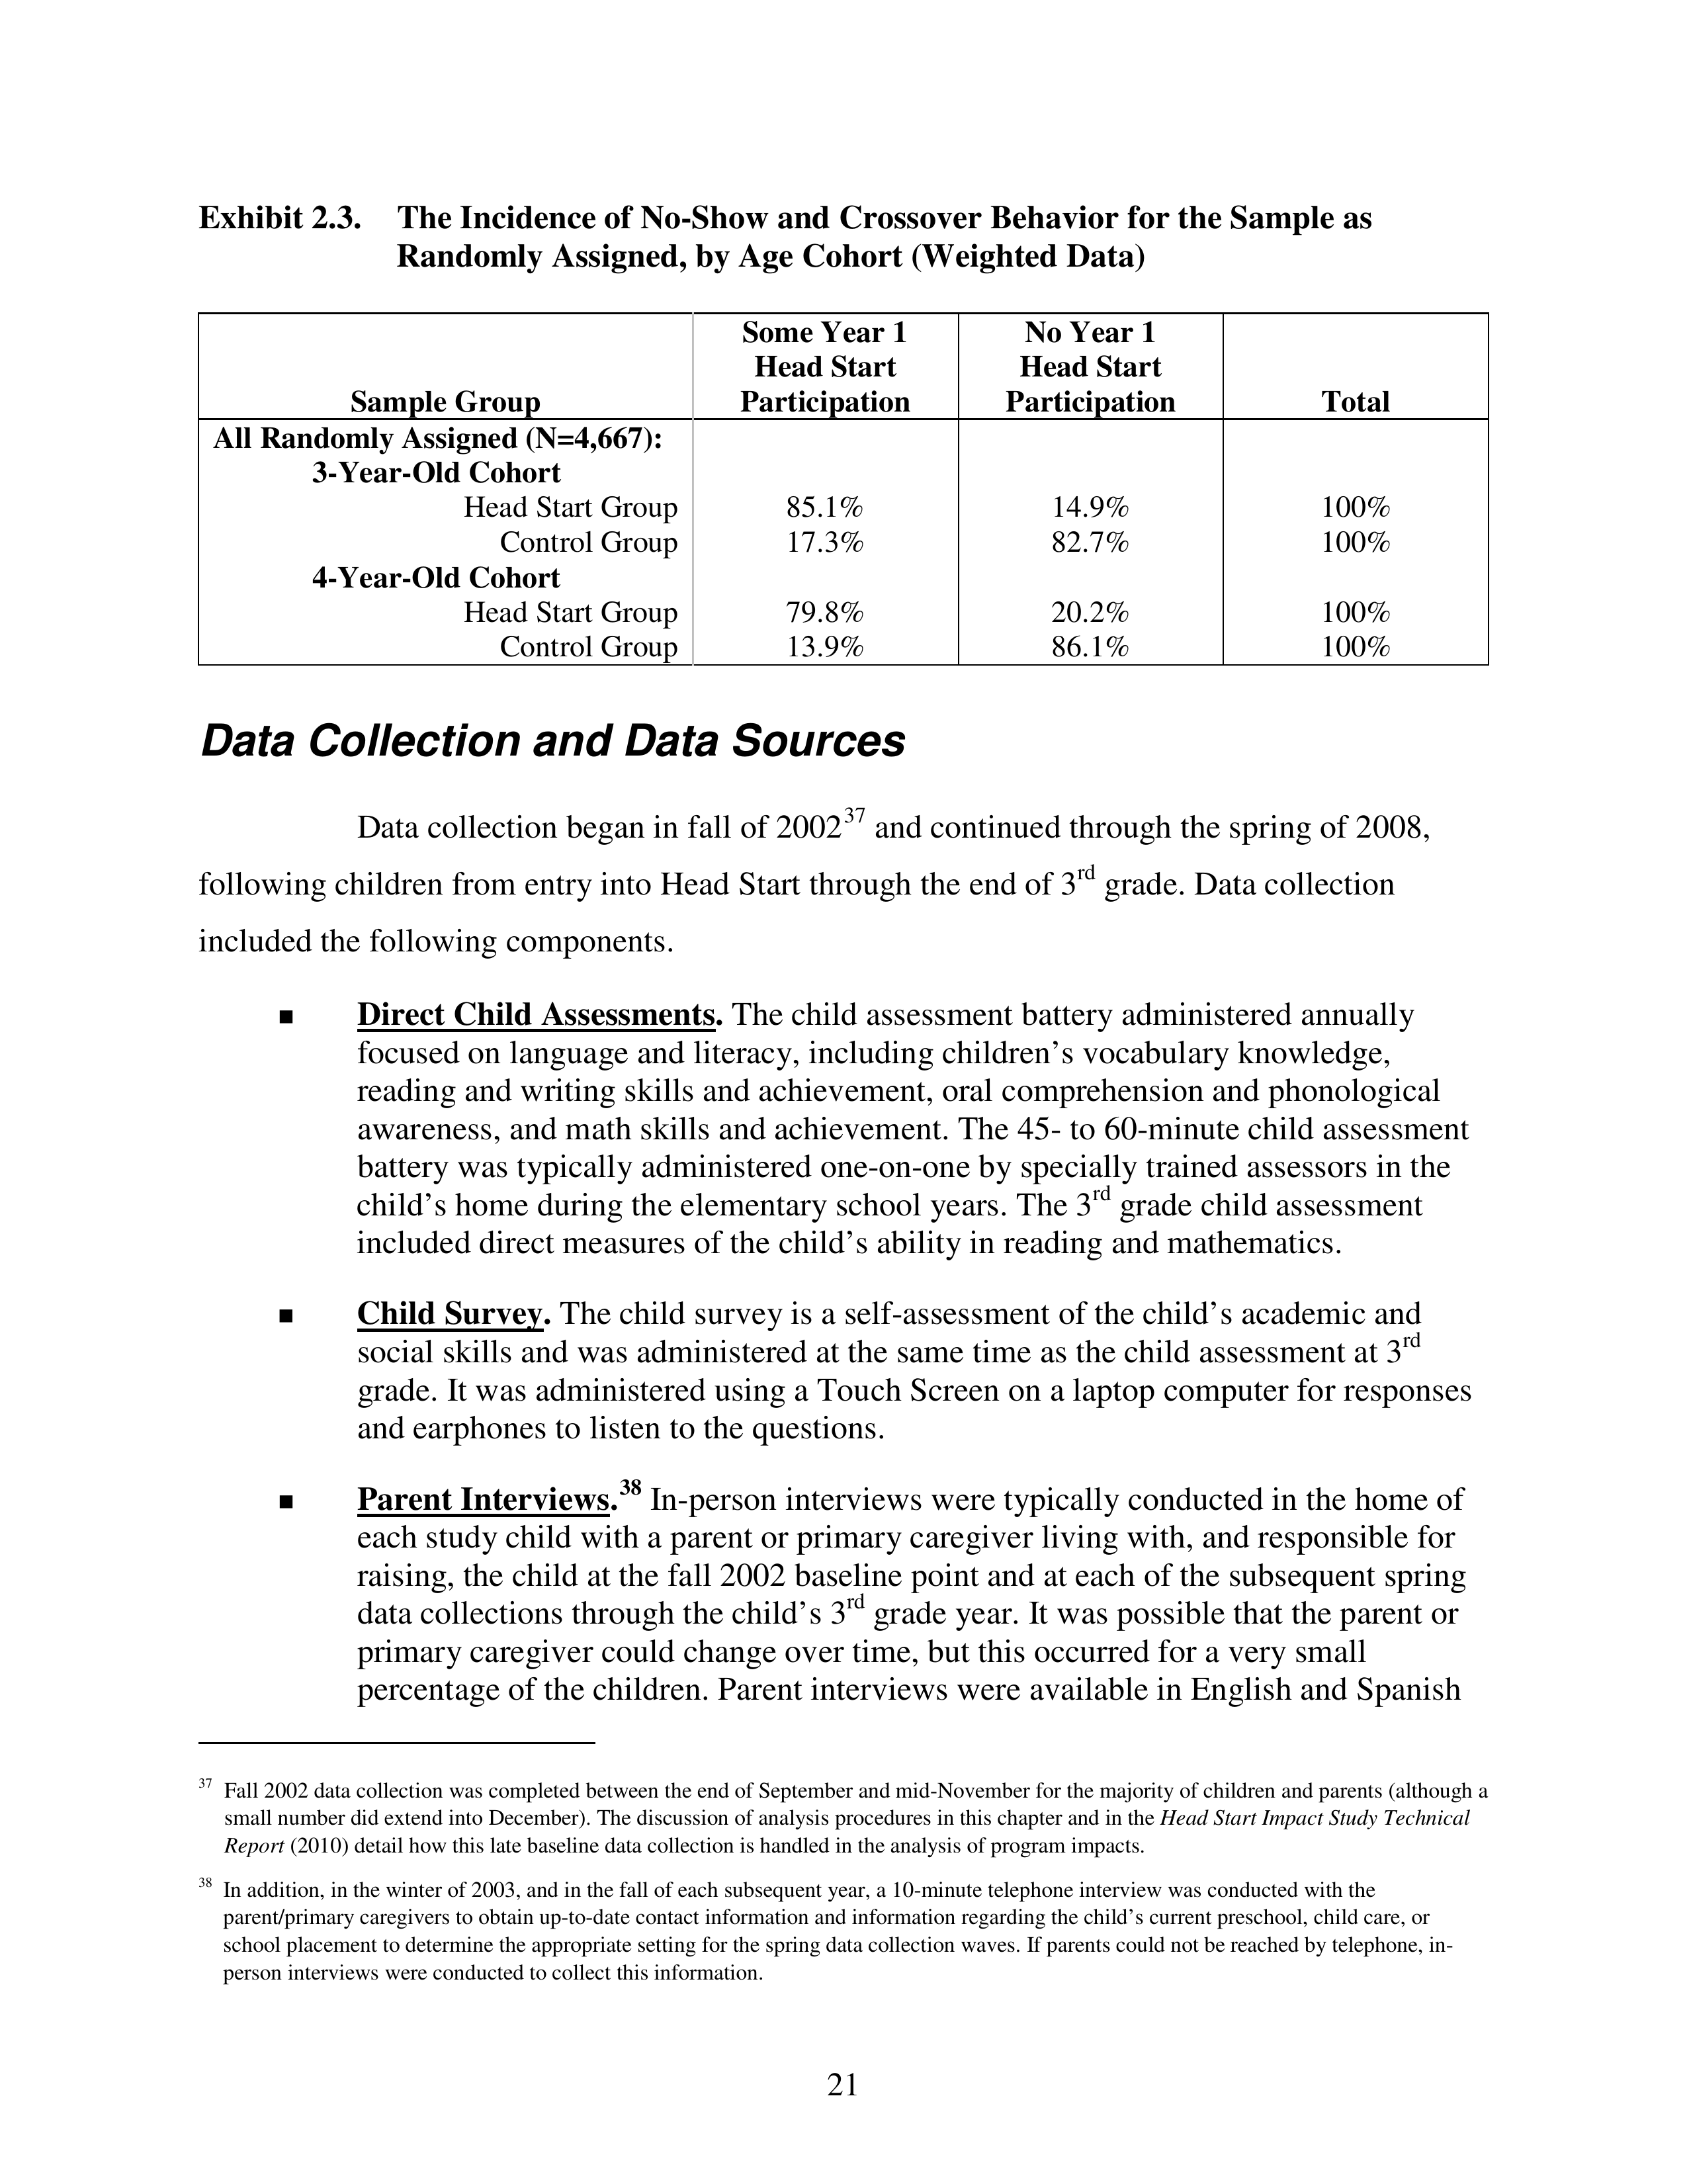table: (197, 310, 1492, 668)
